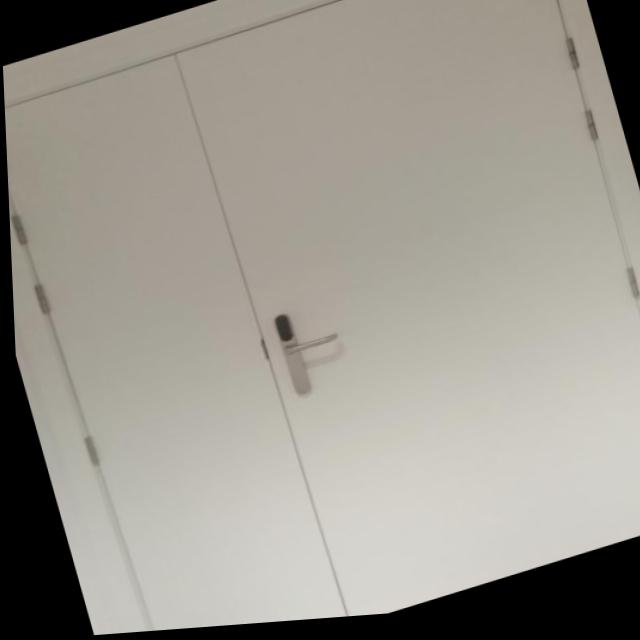door_handle: (275, 332, 340, 362)
